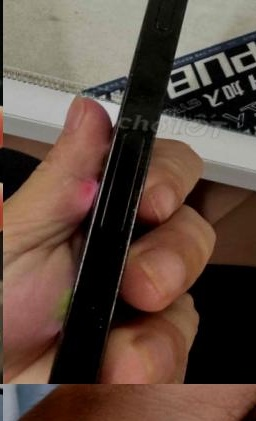scratch: (73, 296, 117, 384), (107, 178, 148, 262)
